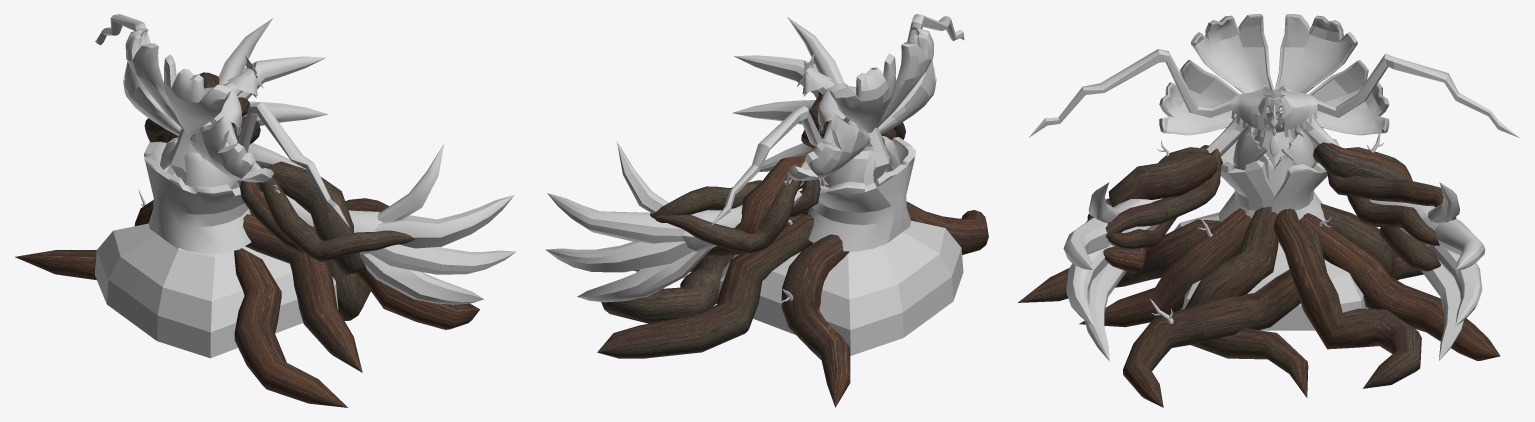
The model's file is Forest DietyUV.fbx.
The picture shows the model from 3 angles, left to right: view 1: azimuth 30°, elevation 25°; view 2: azimuth 150°, elevation 25°; view 3: azimuth 270°, elevation 25°; orthographic projection. The views are drawn at different scales.
Visible parts, largest first — view 1: Cube.097, BezierCurve.001; view 2: Cube.097, BezierCurve.001; view 3: BezierCurve.001, Cube.097.
Part boxes in pixels (<box>): Cube.097: <box>94,14,516,358</box>; BezierCurve.001: <box>15,72,479,407</box>; Cube.097: <box>545,14,964,355</box>; BezierCurve.001: <box>597,91,988,407</box>; BezierCurve.001: <box>1018,142,1500,407</box>; Cube.097: <box>1029,14,1519,361</box>.
Bounding box in the file's own units: 233 × 208 × 347.
